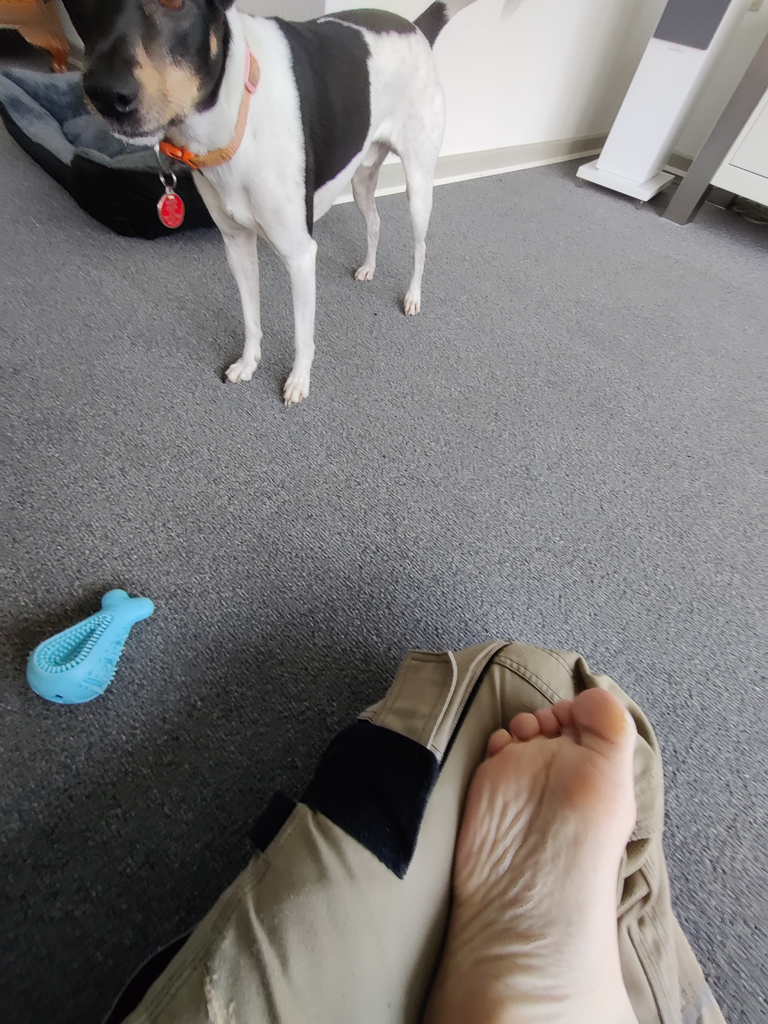Dog: (39, 0, 544, 415)
Humanoid: (42, 613, 749, 1024)
